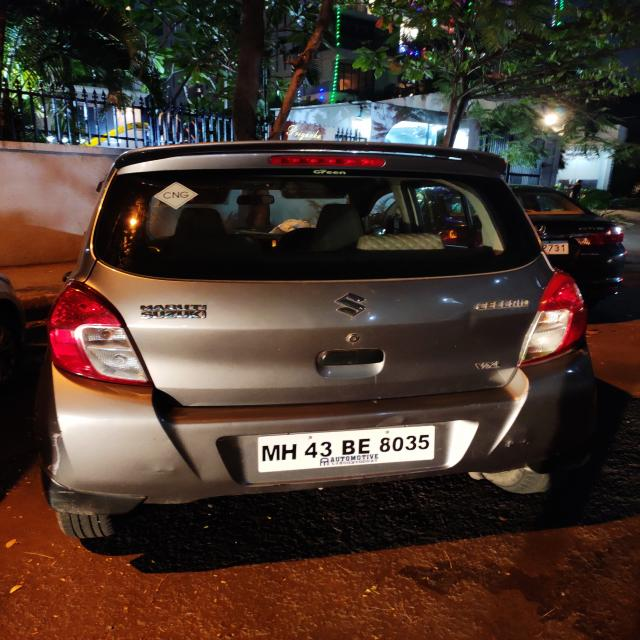Number-Plate: (261, 429, 433, 469)
